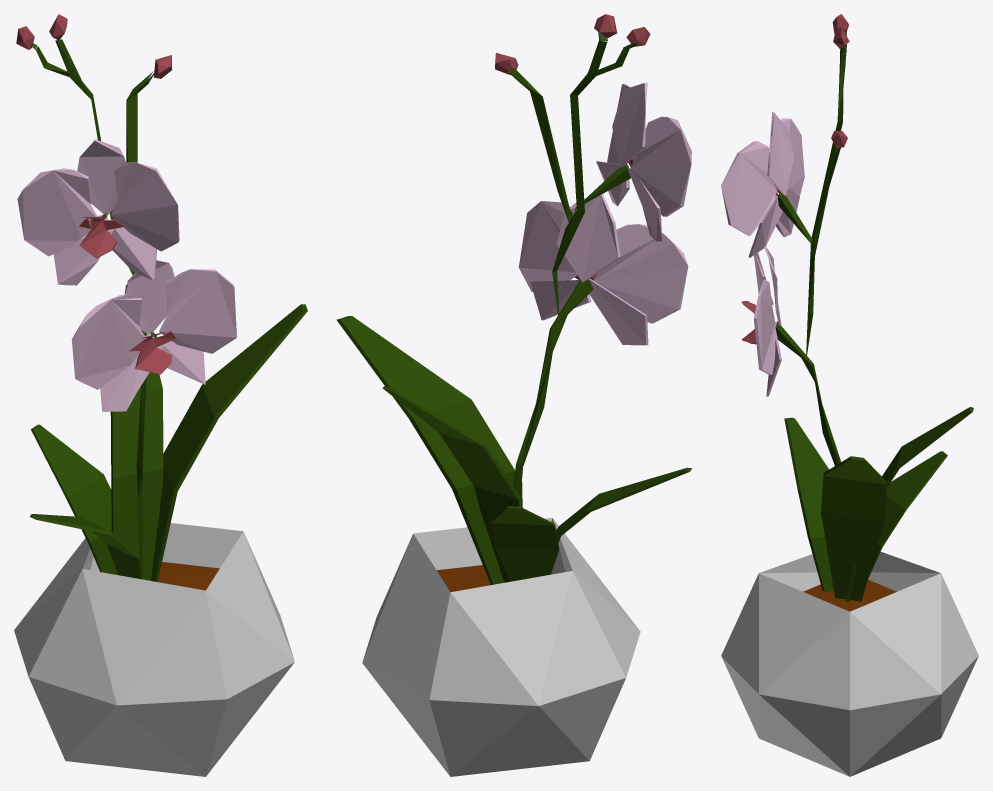
Rendered from orchid2.glb.
3 views of the same model, side by side, from view 1: azimuth 30°, elevation 25°; view 2: azimuth 150°, elevation 25°; view 3: azimuth 270°, elevation 25° (orthographic). The views are drawn at different scales.
Parts seen in each view (by area): view 1: Box003, GeoSphere001; view 2: Box003, GeoSphere001; view 3: GeoSphere001, Box003.
Boxes of the visible parts, x1=… form: Box003: x1=16, y1=14, x2=307, y2=581; GeoSphere001: x1=14, y1=523, x2=294, y2=776; Box003: x1=336, y1=14, x2=692, y2=584; GeoSphere001: x1=362, y1=517, x2=640, y2=776; GeoSphere001: x1=721, y1=552, x2=978, y2=776; Box003: x1=721, y1=14, x2=973, y2=601.
Size of the model in its own units: 53.08 by 119 by 41.38.
